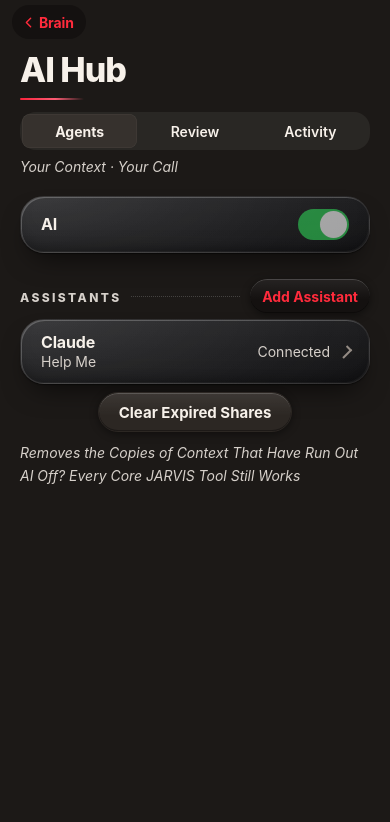
H2 Review › a missing reason never reaches the server
The image size is (390, 822).
Check: the text "Claude" is shown, box [41,332,95,352]
Click the tab "Review" at (195,131), box [137,114,253,148]
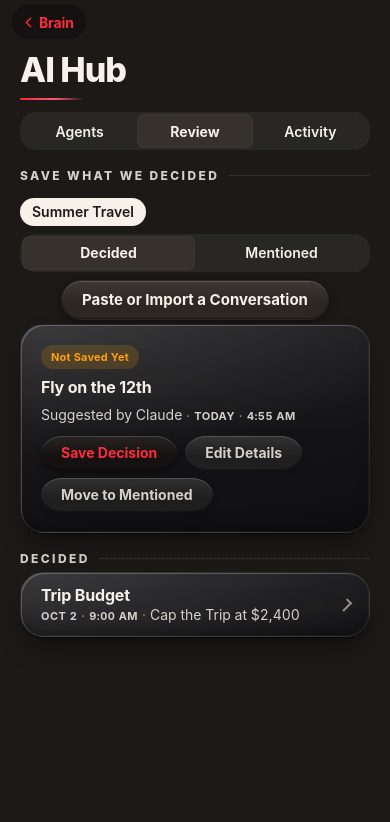
Click the button "Save Decision" at (109,453), box [41,431,177,475]
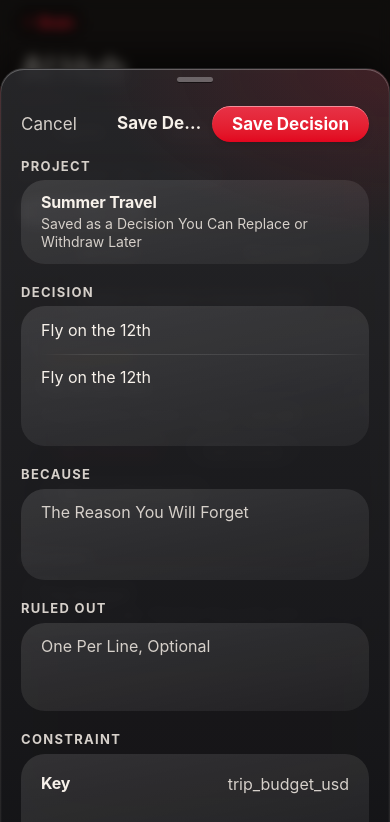
Replace the text in the field named "Decision title" with "Flights" at (195,330), box [41,314,349,346]
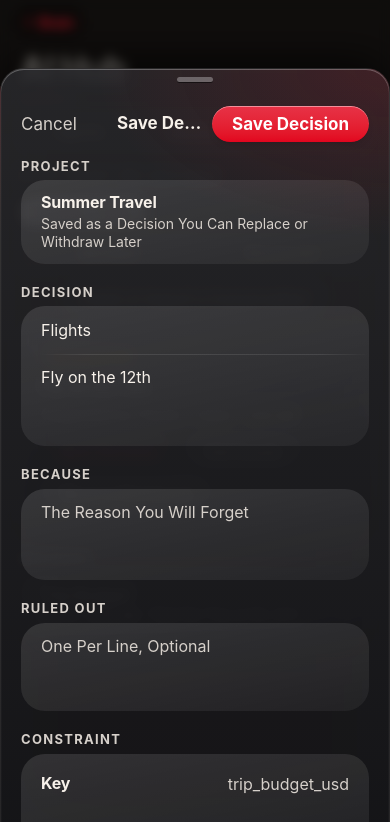
Click the button with class "sheet-bar-save" at (291,124), box [212,106,369,142]
(page scrolled)
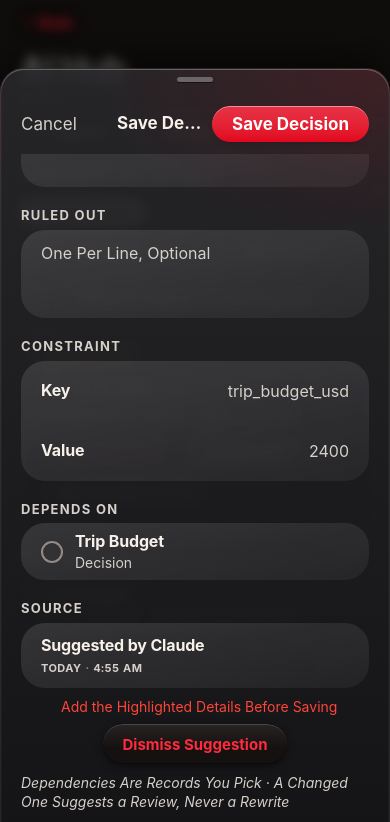
Check: the text "Add the Highlighted Details Before Saving" is shown, box [61,698,337,715]
